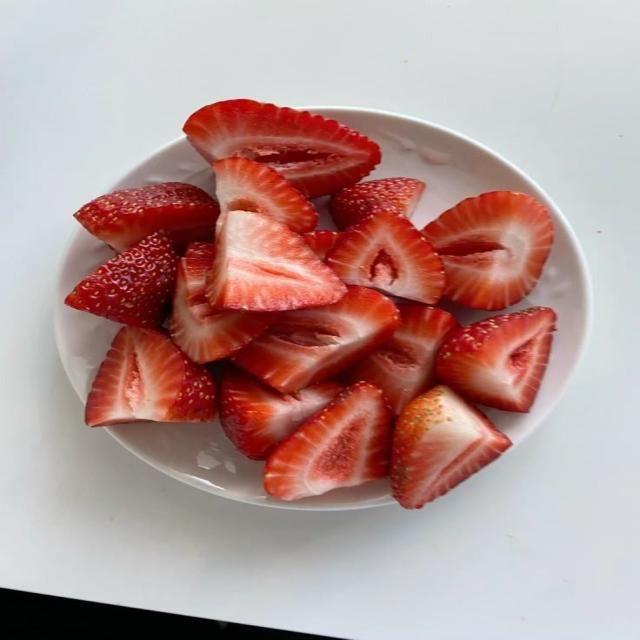strawberry sliced: (184, 100, 380, 197), (234, 286, 399, 392), (423, 192, 553, 310), (265, 383, 391, 500), (391, 386, 511, 508), (207, 211, 346, 311), (86, 327, 215, 426), (437, 307, 556, 412), (170, 243, 274, 362), (350, 305, 458, 414), (220, 367, 342, 459), (326, 212, 445, 304), (65, 231, 178, 327), (75, 183, 219, 251), (214, 158, 319, 233), (330, 178, 425, 228), (303, 231, 343, 260)
